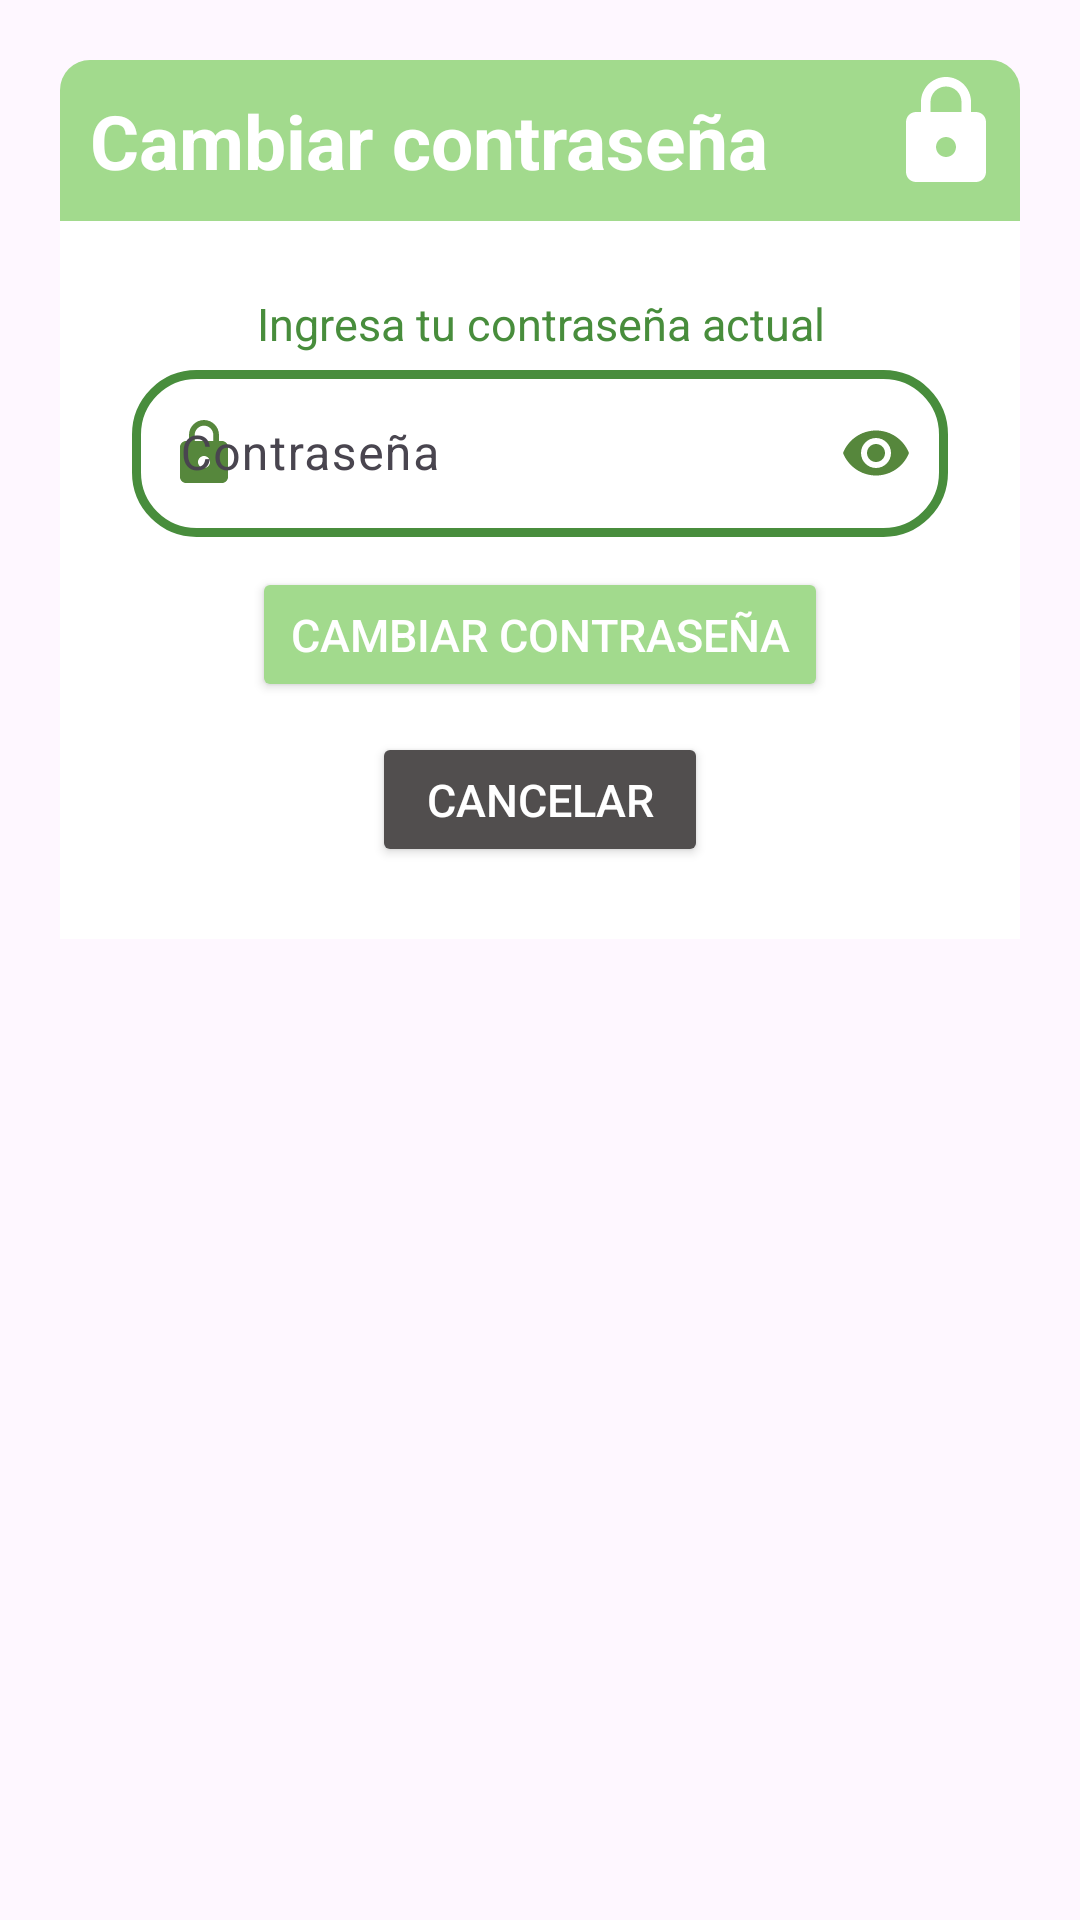

Where to tap for icons on this 1080 × 1920 app screen, as [x,y]:
lock: [946,129]
